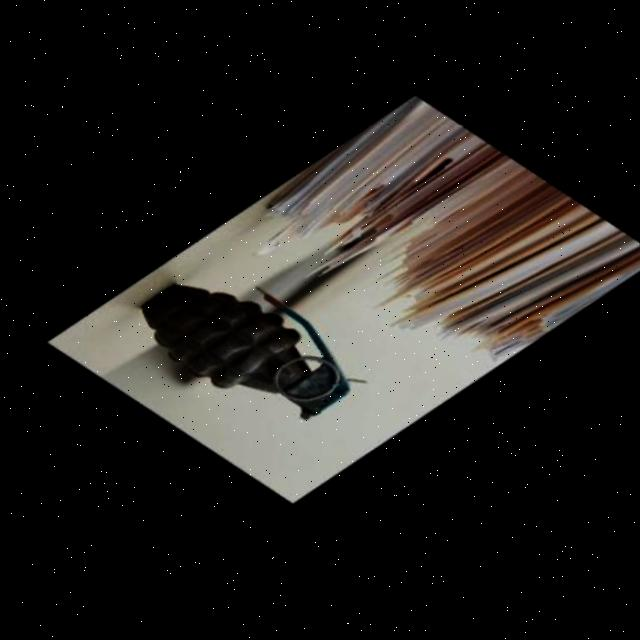grenade: (97, 222, 393, 474)
